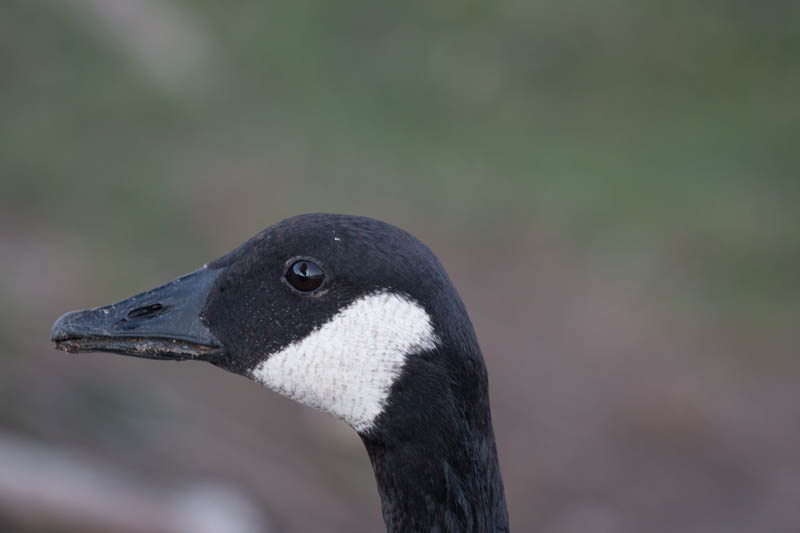goose-head: (49, 212, 493, 435)
